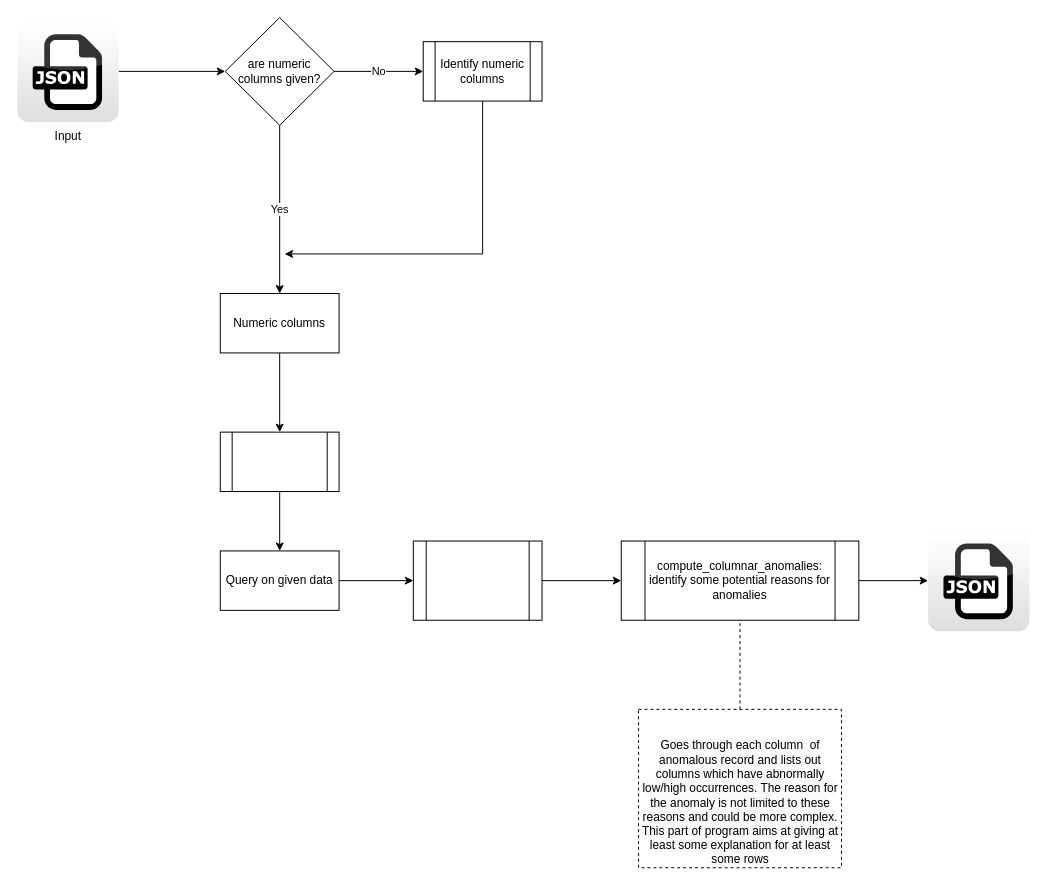
The diagram is 1047 pixels wide and 885 high, and some of its shapes have lost their labels. Each missing label, with the box of its shape:
Fit the algorithms: (219, 431, 339, 492)
Output: (927, 529, 1030, 631)
row_filtering: filter rows by consolidating scores from each algorithm: (412, 540, 542, 620)
